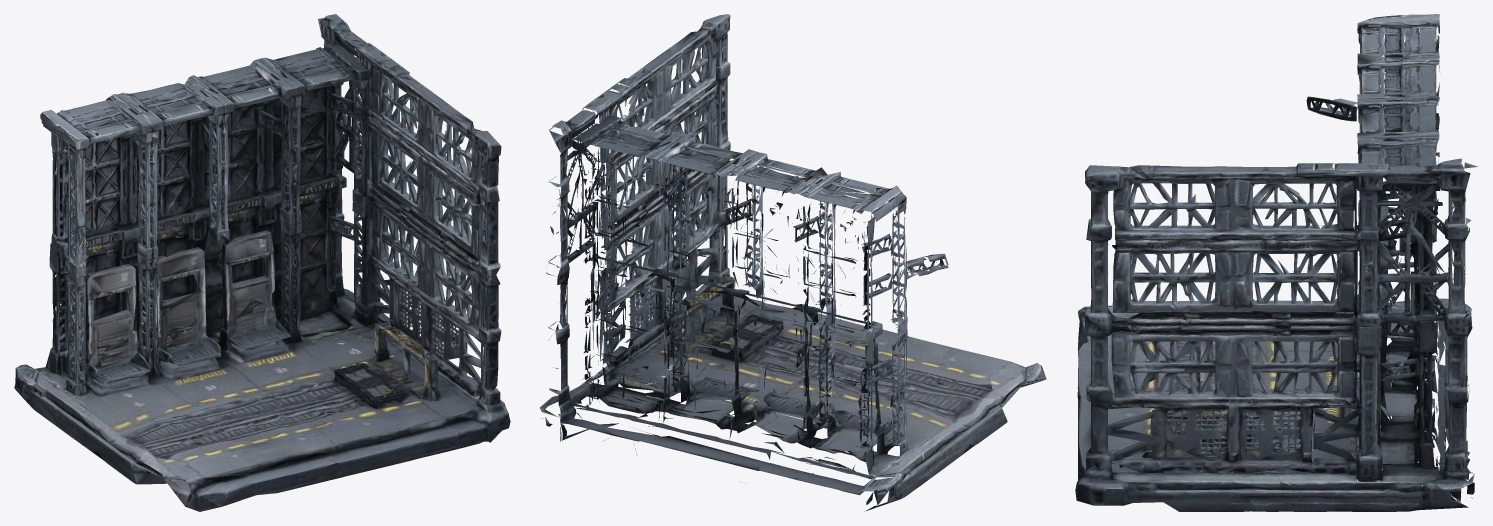
Rendered from hangar_wall_bay.glb.
3 renders of one model, left to right at view 1: azimuth 30°, elevation 25°; view 2: azimuth 150°, elevation 25°; view 3: azimuth 270°, elevation 25°, orthographic. The views are drawn at different scales.
Visible parts, largest first — view 1: hangar_wall_bay; view 2: hangar_wall_bay; view 3: hangar_wall_bay.
Part boxes in pixels (x1,y1,x2,y2): hangar_wall_bay: (14, 14, 510, 511); hangar_wall_bay: (540, 14, 1046, 511); hangar_wall_bay: (1075, 14, 1478, 511).
Size of the model in its own units: 0.976 by 0.8312 by 0.8805.
1 material, 1 textured.
